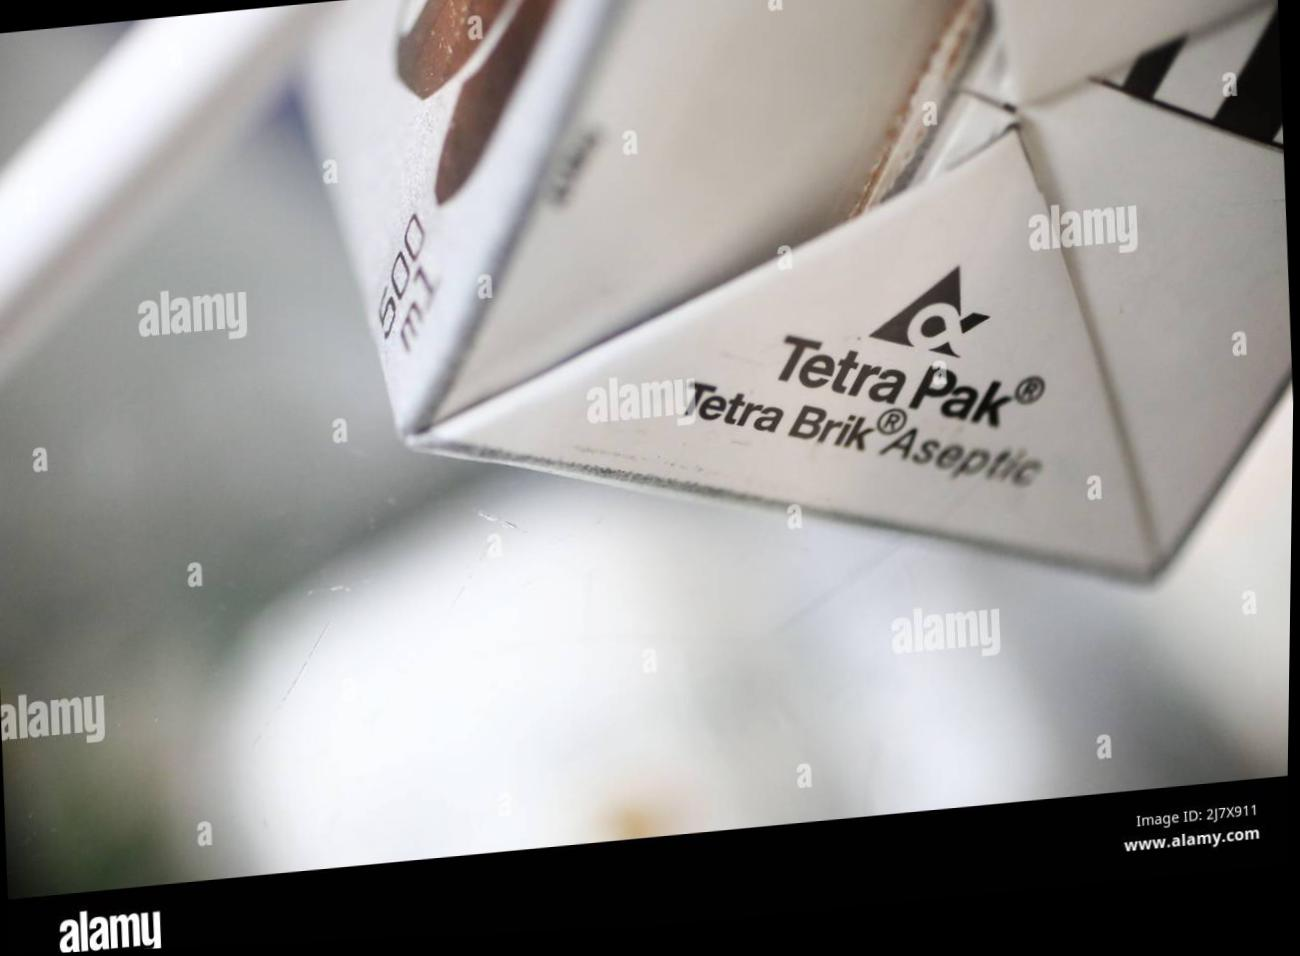cardboard: (298, 0, 1289, 575)
